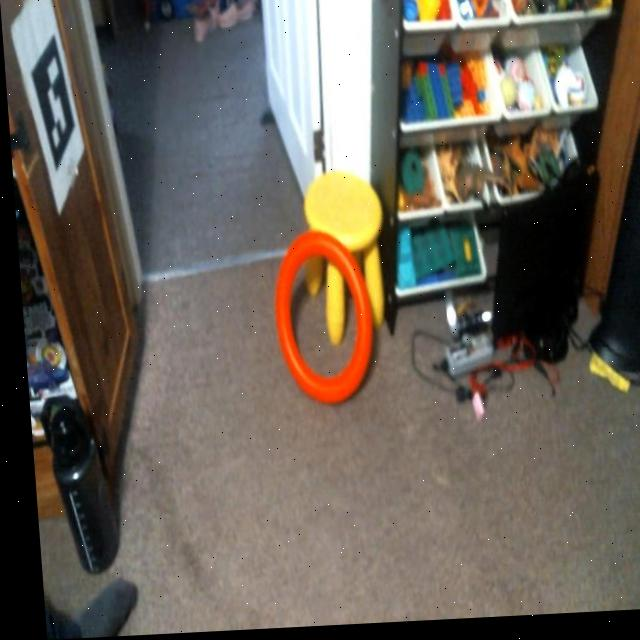note: (262, 224, 371, 410)
